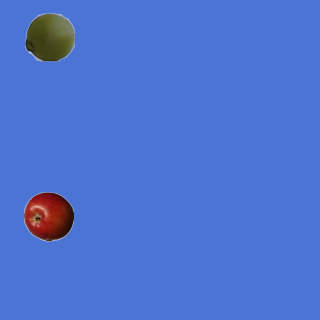Apple Braeburn: (23, 191, 73, 241)
Grape White 4: (24, 11, 74, 61)
